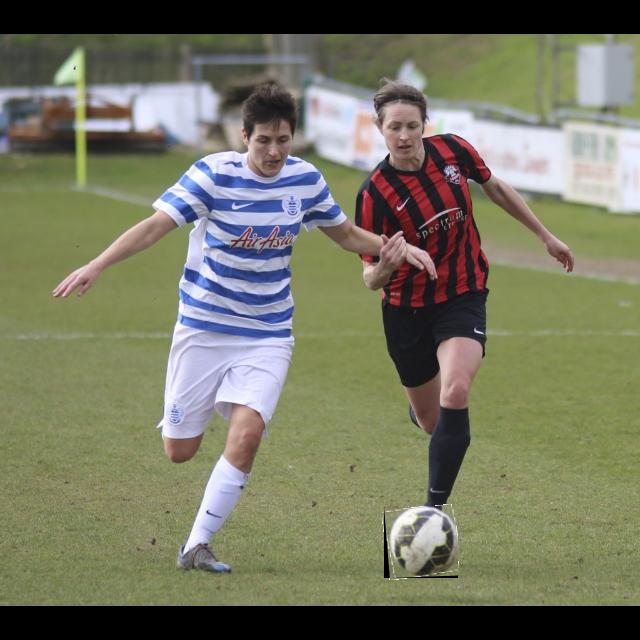Football: (384, 506, 458, 578)
